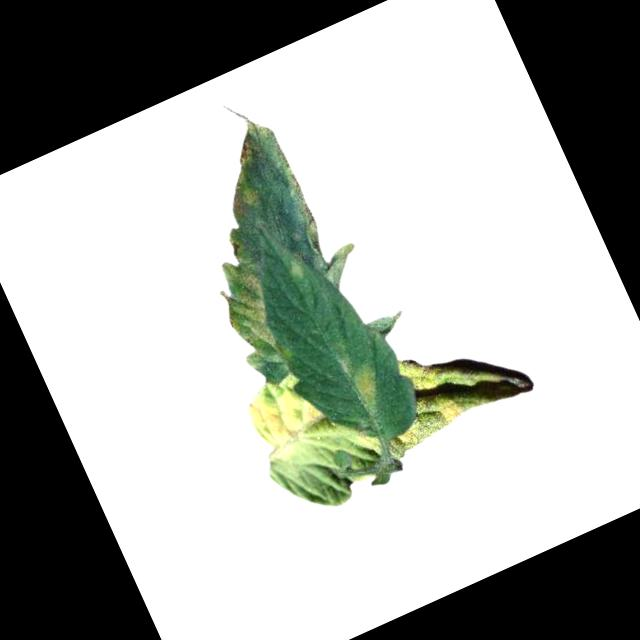Leaf_Mold: (363, 327, 518, 457), (206, 254, 297, 379), (238, 369, 327, 460), (219, 173, 269, 230), (345, 361, 389, 419), (229, 130, 265, 169)
